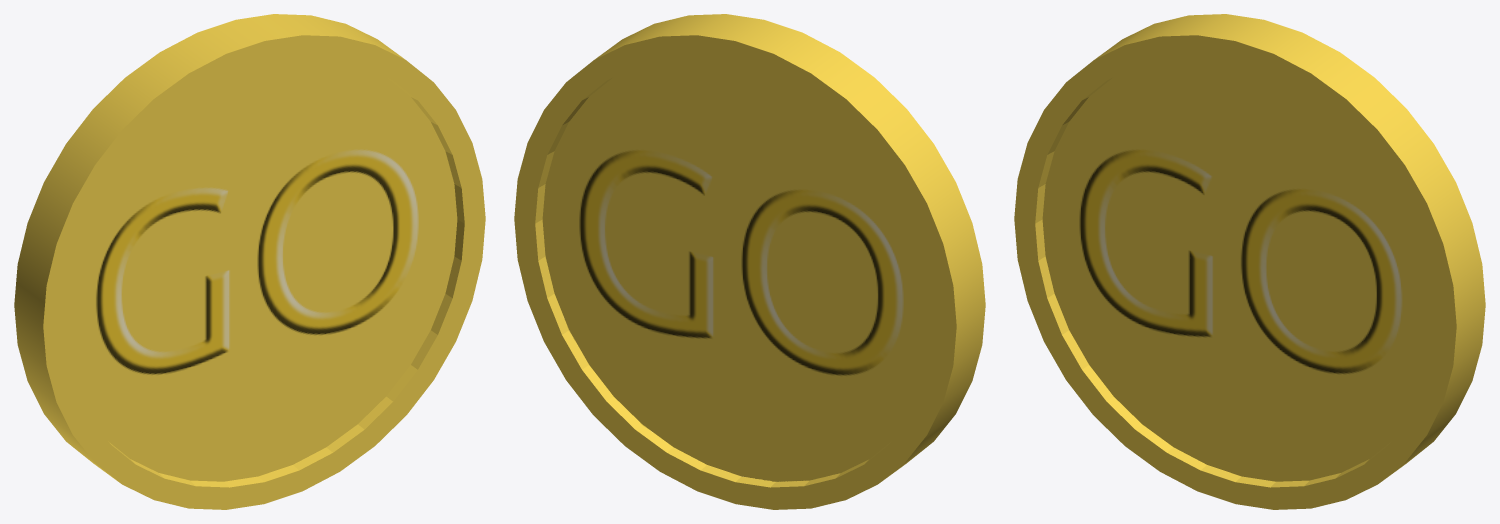
The model's file is coin_fbx.FBX.
3 renders of one model, left to right at view 1: azimuth 30°, elevation 25°; view 2: azimuth 150°, elevation 25°; view 3: azimuth 330°, elevation 25°, orthographic.
Parts seen in each view (by area): view 1: Cylinder001; view 2: Cylinder001; view 3: Cylinder001.
Boxes of the visible parts, box(x1,y1,x2,y2) form: Cylinder001: box(14, 14, 485, 509); Cylinder001: box(514, 14, 985, 509); Cylinder001: box(1014, 14, 1485, 509).
Bounding box in the file's own units: 78.41 × 78.41 × 8.9.
1 material, 1 textured.
